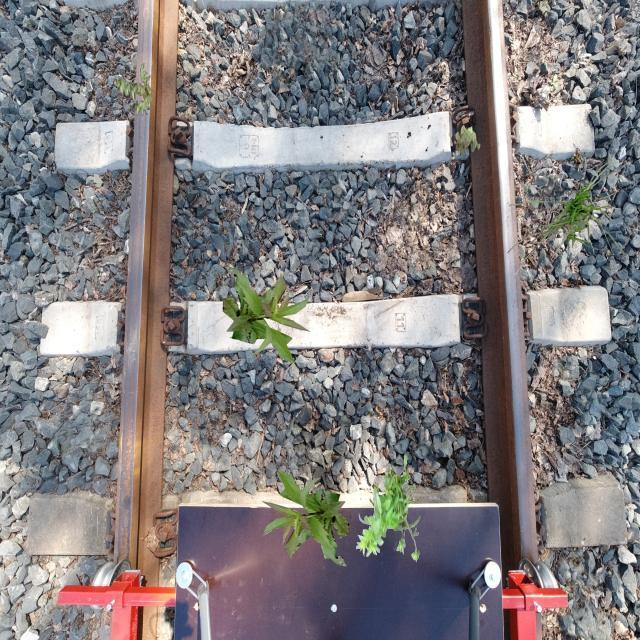Plant: (507, 154, 626, 276), (223, 266, 312, 364), (261, 470, 349, 568), (356, 455, 421, 562), (113, 63, 154, 117), (455, 125, 481, 157)
